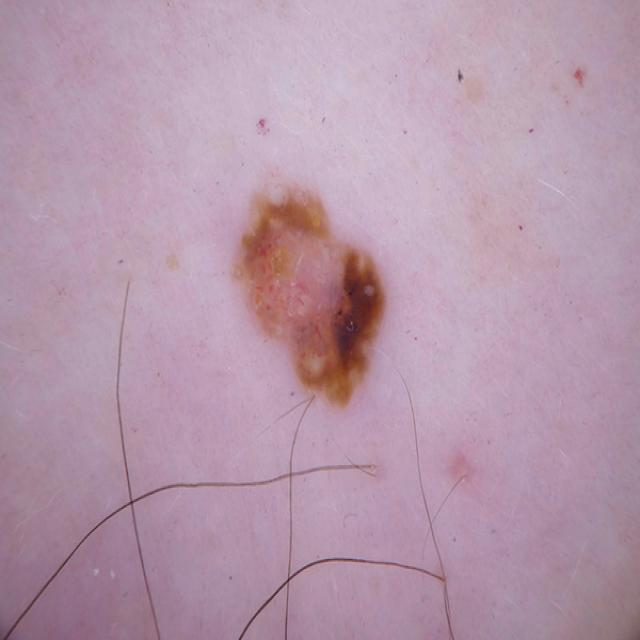Skin-Cancer Pigmented benign keratosis: (75, 56, 559, 546)
